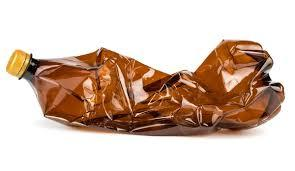plastic: (19, 41, 286, 134)
